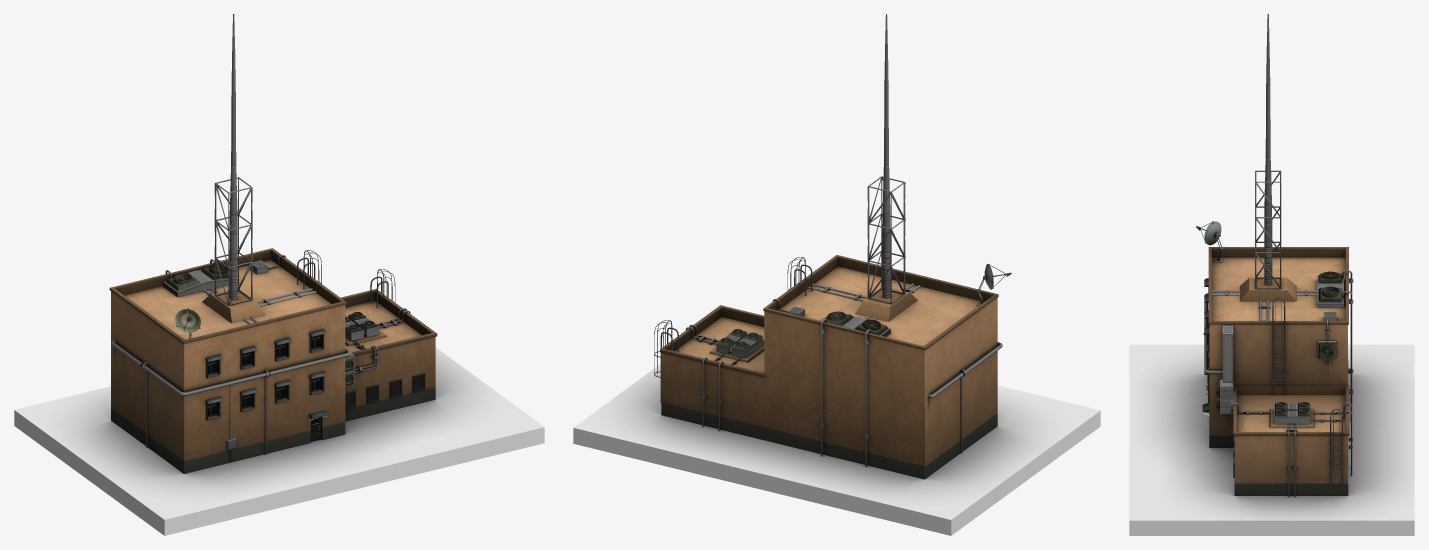
Rendered from futuristic-building-transformed.glb.
3 views of the same model, side by side, from view 1: azimuth 30°, elevation 25°; view 2: azimuth 150°, elevation 25°; view 3: azimuth 270°, elevation 25° (orthographic). The views are drawn at different scales.
Parts seen in each view (by area): view 1: Plane.020_0, Plane_0, Plane.013_0, Plane_4, Plane.022_0, Cube.002_0, Plane.013_1, Plane.016_0; view 2: Plane.020_0, Plane_0, Plane.013_0, Plane_4, Plane.022_0, Cube.002_0, Plane.016_0; view 3: Plane.020_0, Plane_4, Plane.013_0, Plane.022_0, Cube.002_0, Plane_0, Plane.016_0, Circle.003_0.
Boxes of the visible parts, x1,y1,x2,y2 form: Plane.020_0: (14,347,544,535); Plane_0: (184,289,435,460); Plane.013_0: (109,248,437,473); Plane_4: (111,250,431,460); Plane.022_0: (111,14,410,462); Cube.002_0: (166,265,378,384); Plane.013_1: (207,335,320,430); Plane.016_0: (297,250,395,307); Plane.020_0: (573,364,1100,535); Plane_0: (661,288,924,466); Plane.013_0: (660,255,998,479); Plane_4: (665,257,997,465); Plane.022_0: (685,14,1002,467); Cube.002_0: (717,311,888,349); Plane.016_0: (654,257,812,402); Plane.020_0: (1129,344,1414,535); Plane_4: (1209,248,1347,483); Plane.013_0: (1202,247,1349,495); Plane.022_0: (1203,14,1353,497); Cube.002_0: (1216,271,1341,416); Plane_0: (1240,277,1313,425); Plane.016_0: (1272,298,1342,488); Circle.003_0: (1196,221,1222,262).
Size of the model in its own units: 33 by 35.96 by 22.62.
10 materials, 8 textured.
